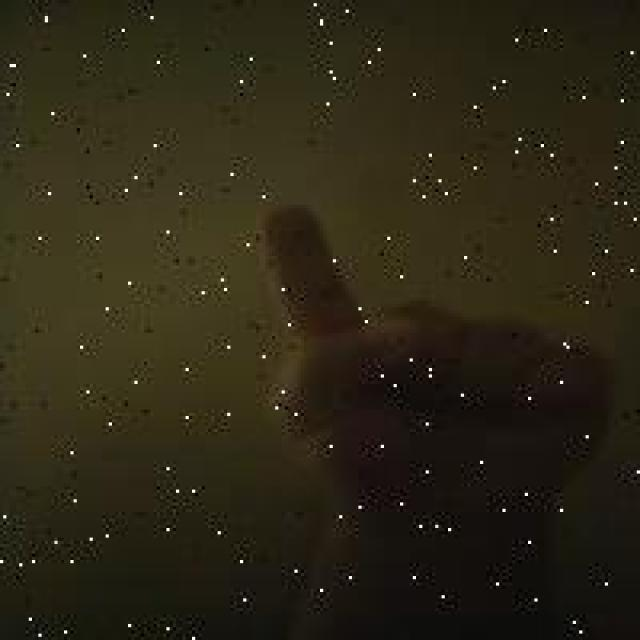Z: (254, 200, 606, 610)
